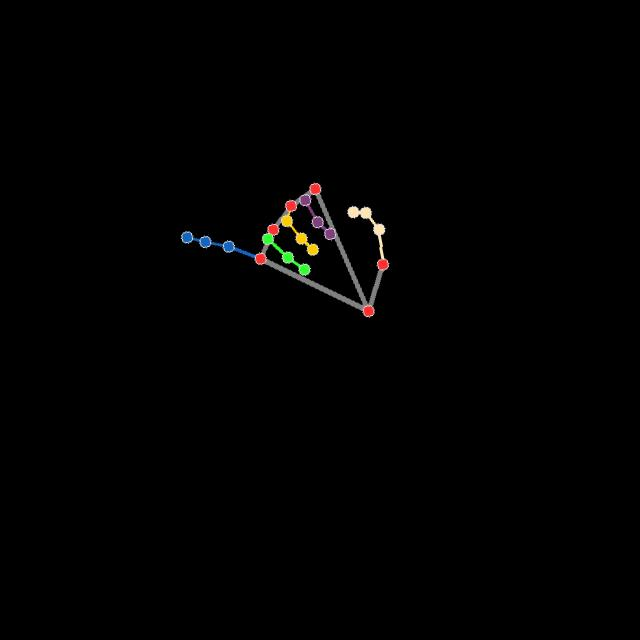skr: (177, 179, 391, 319)
